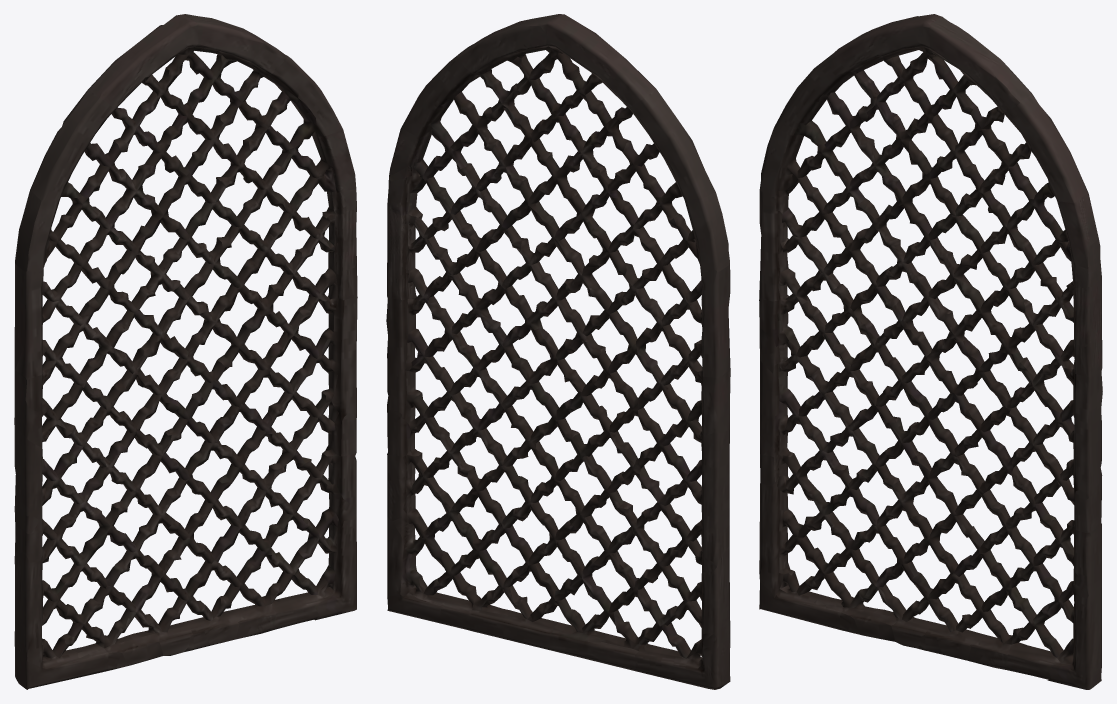
File: SM_ChuangHu_2_df36cd.glb
The picture shows the model from 3 angles, left to right: view 1: azimuth 30°, elevation 25°; view 2: azimuth 150°, elevation 25°; view 3: azimuth 330°, elevation 25°; orthographic projection.
Parts seen in each view (by area): view 1: SM_ChuangHu_2; view 2: SM_ChuangHu_2; view 3: SM_ChuangHu_2.
Part boxes in pixels (box(x1,y1,x2,y2)): SM_ChuangHu_2: box(14, 14, 357, 689); SM_ChuangHu_2: box(386, 14, 730, 689); SM_ChuangHu_2: box(759, 14, 1102, 689).
Size of the model in its own units: 0.5525 by 1 by 0.0404.
1 material, 1 textured.
